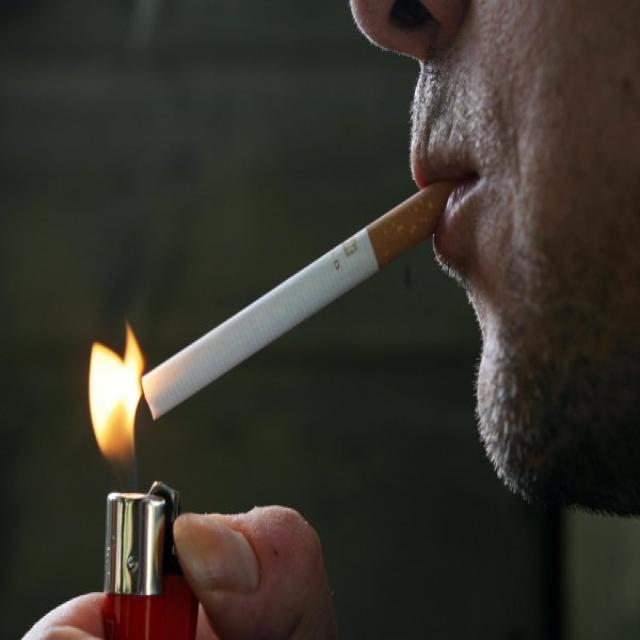fire: (88, 321, 145, 464)
